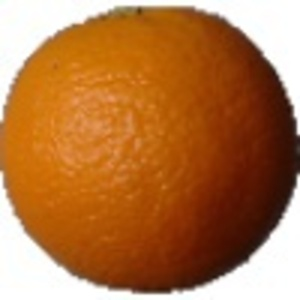laranja: (4, 2, 299, 299)
